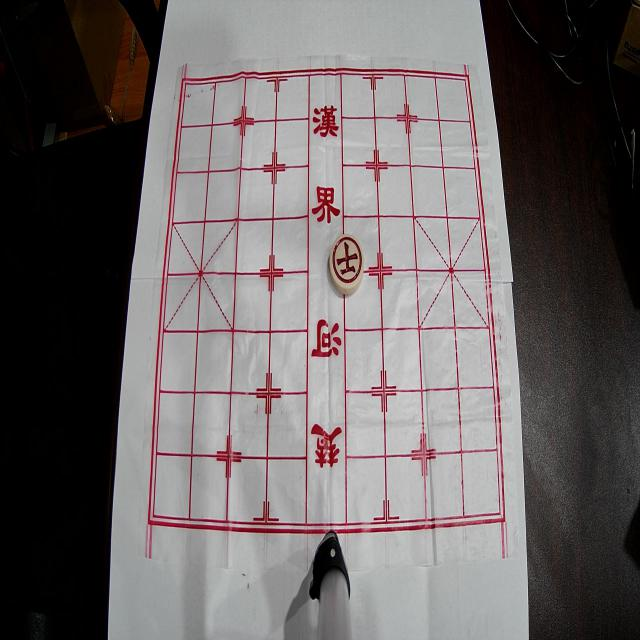red-guard: (330, 234, 364, 294)
